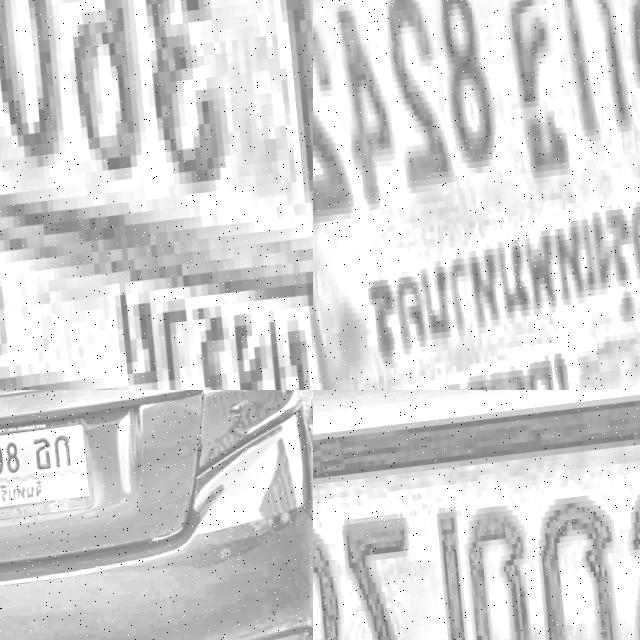license-plate: (313, 0, 640, 390), (0, 0, 313, 390), (313, 390, 640, 640), (0, 409, 99, 524)
